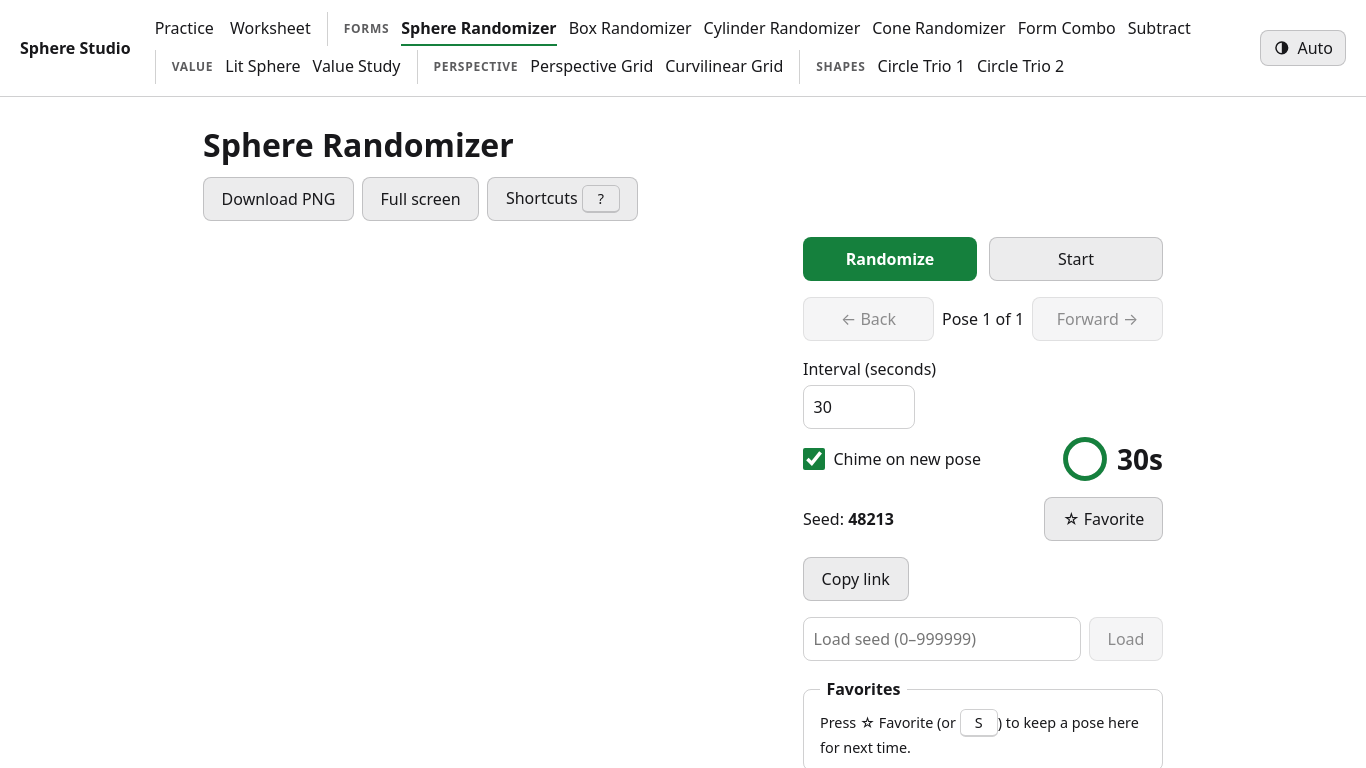
Test case: keyboard shortcuts › drops a tool’s shortcuts when you leave it
Click the link with class "site-title" at (75, 48), box [20,36,131,60]
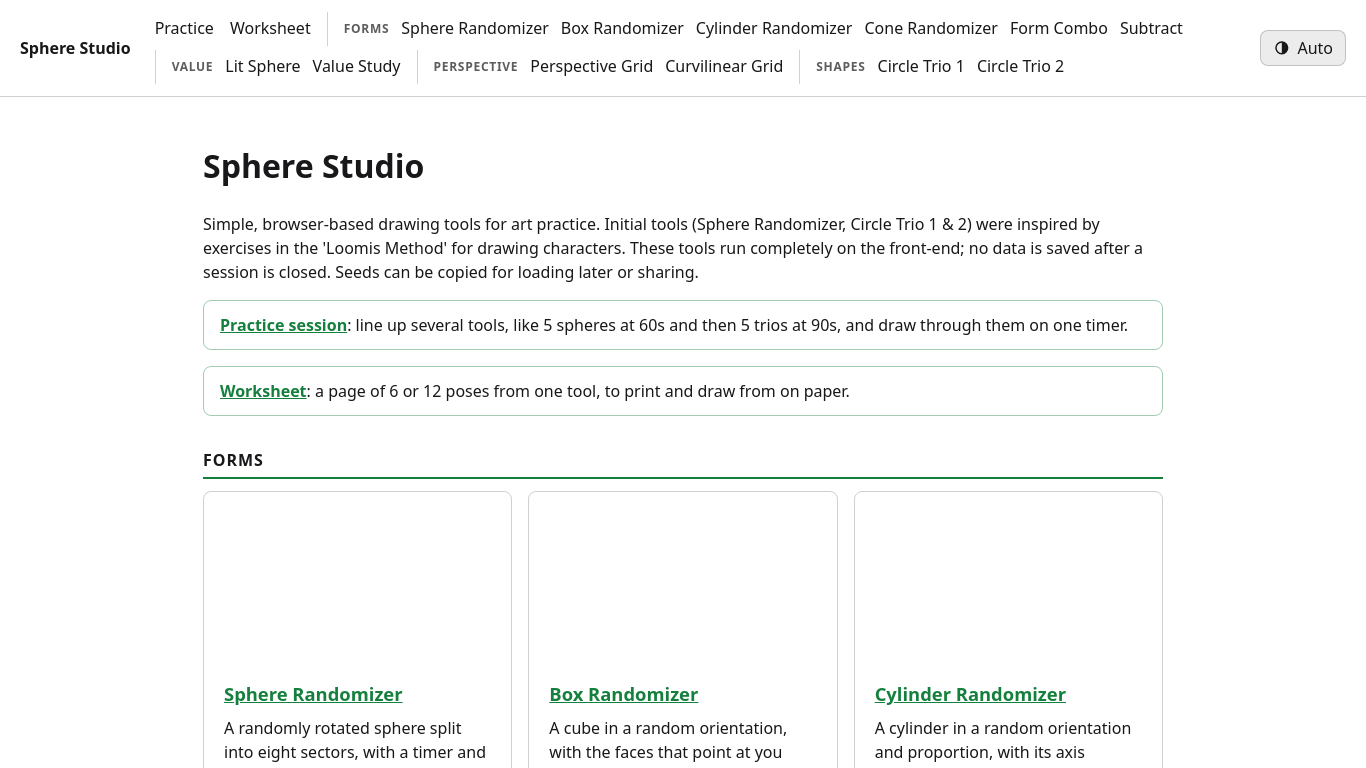
Press ?
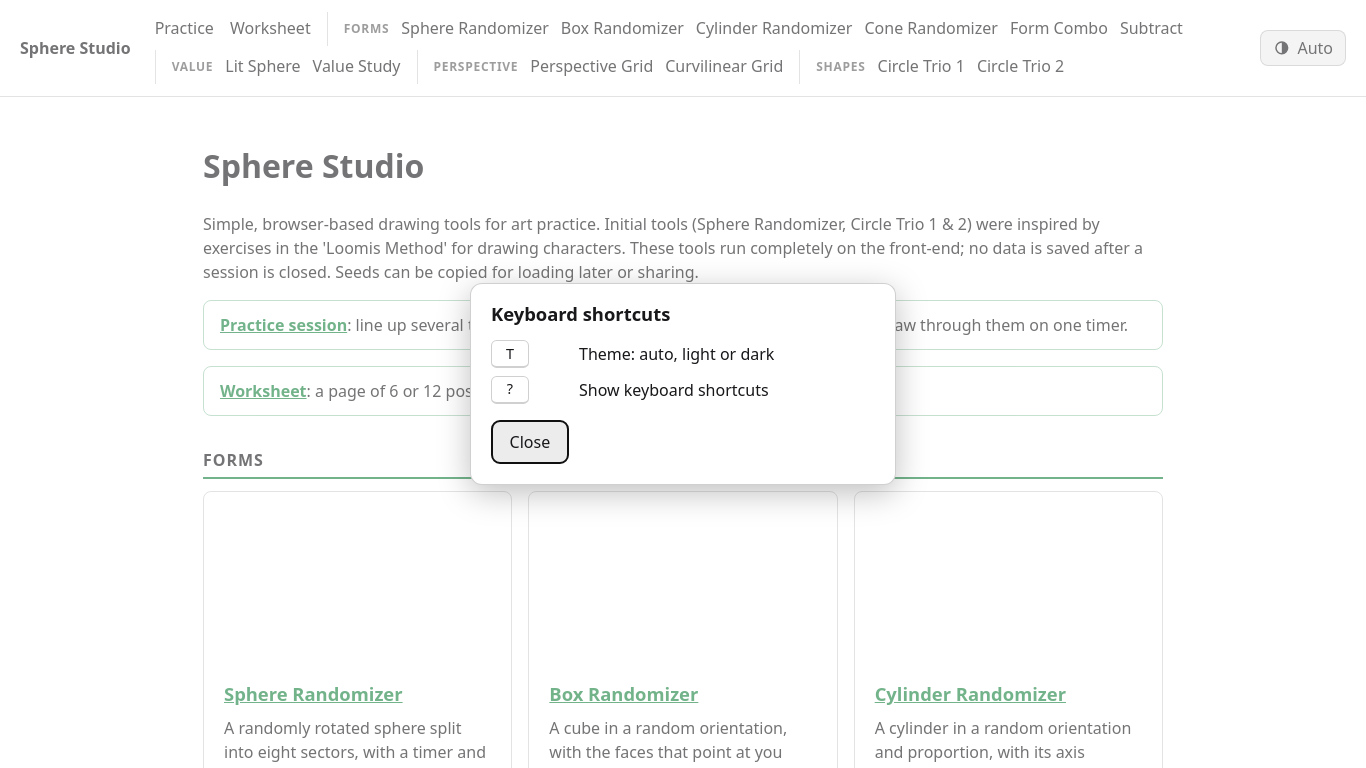
Expected: the label does not show "new pose"
Expected: the dialog shows "Show keyboard shortcuts", [579,379,769,401]
